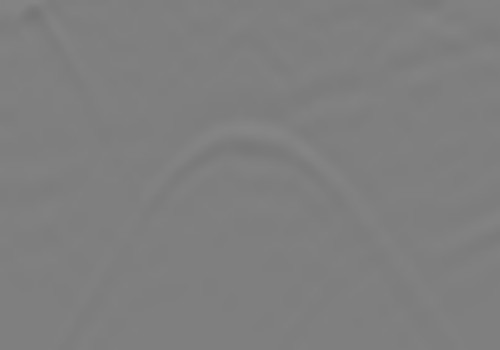hyperbola: (95, 119, 411, 292)
